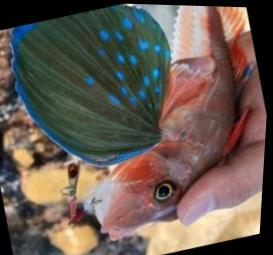fish: (9, 3, 251, 239)
